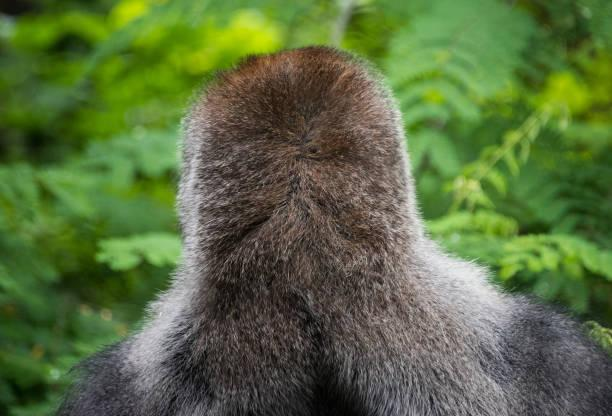gorille_Autres: (118, 52, 587, 416)
